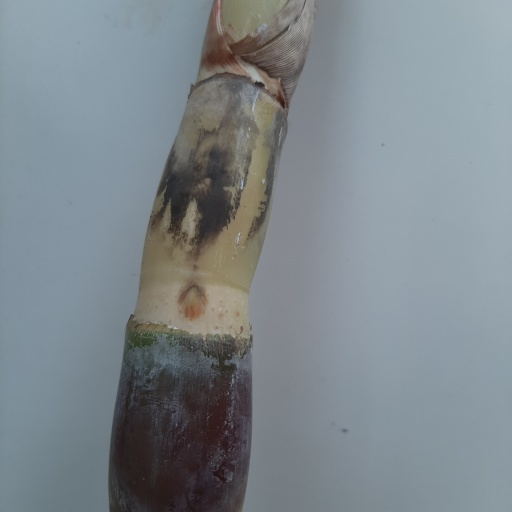Bud: (178, 285, 209, 321)
